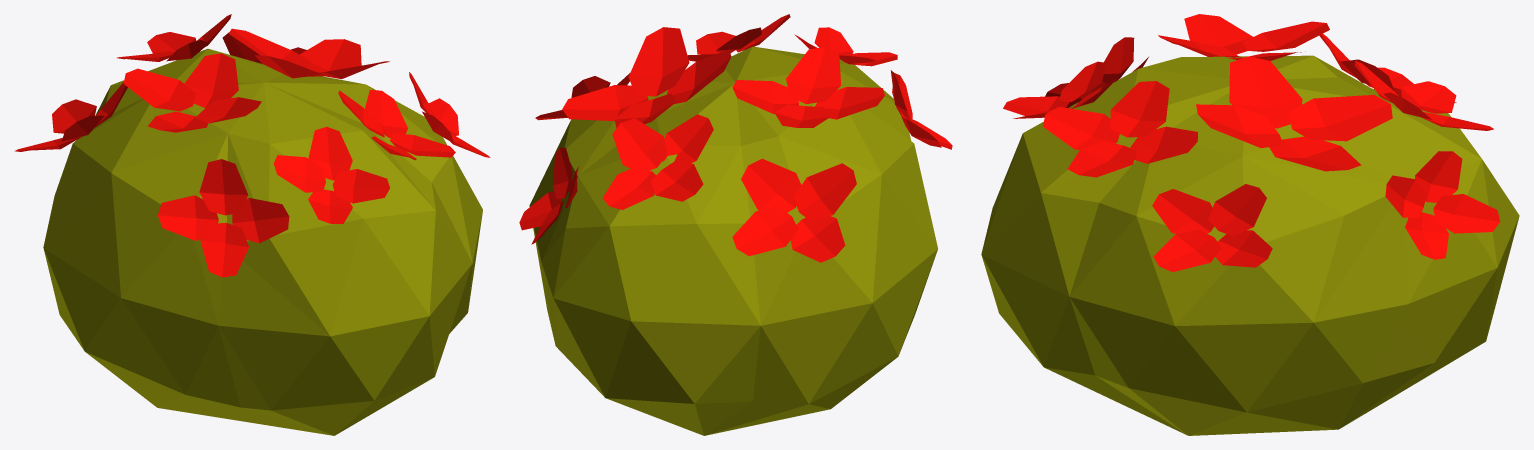
The model's file is village_pack_flower_1.glb.
3 renders of one model, left to right at view 1: azimuth 30°, elevation 25°; view 2: azimuth 150°, elevation 25°; view 3: azimuth 270°, elevation 25°, orthographic. The views are drawn at different scales.
Parts seen in each view (by area): view 1: flower 1_flower 2_0; view 2: flower 1_flower 2_0; view 3: flower 1_flower 2_0.
Part boxes in pixels (left/top/right/bottom): flower 1_flower 2_0: left=14, top=14, right=490, bottom=435; flower 1_flower 2_0: left=519, top=14, right=952, bottom=435; flower 1_flower 2_0: left=981, top=14, right=1519, bottom=435.
Bounding box in the file's own units: 2.55 × 2.28 × 3.03.
